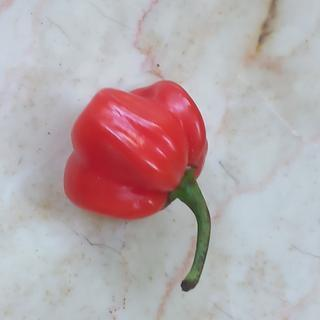Grade-B: (57, 73, 208, 219)
